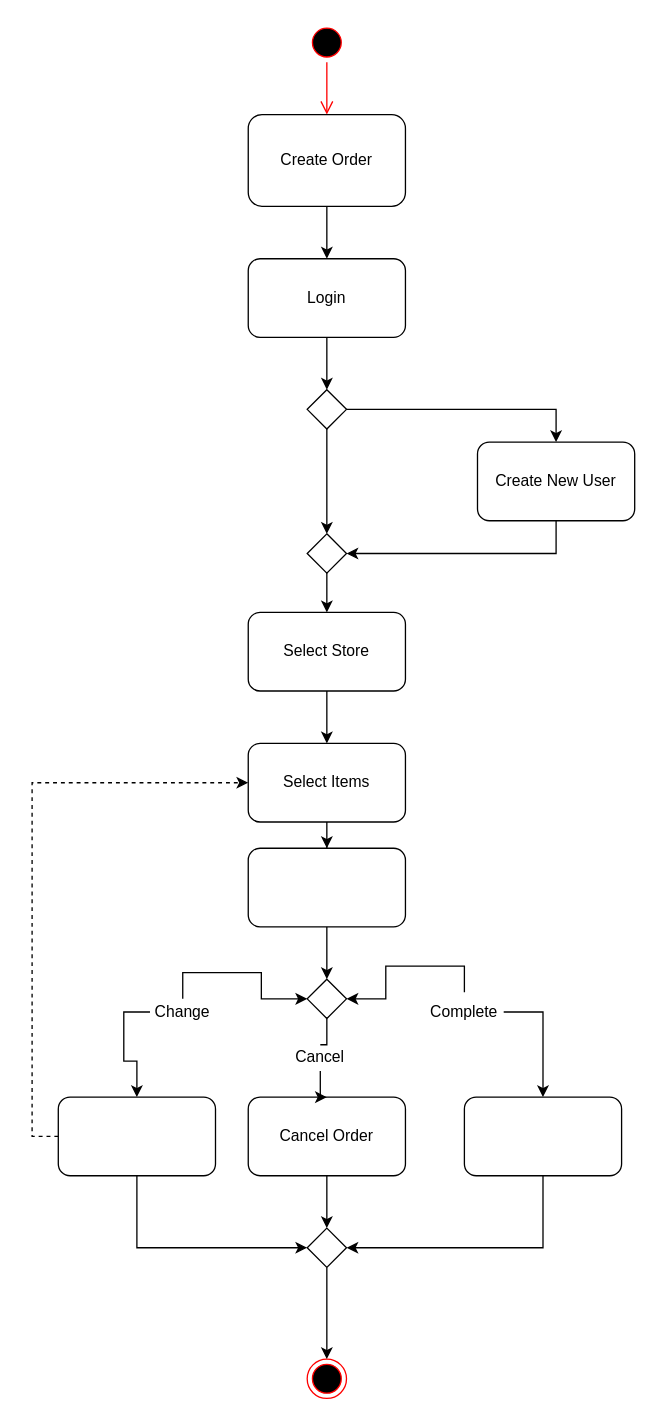
Some shapes in this 658 by 1421 pixel diagram are drawn without their labels. The box of each missing label's shape, as (x1, y1, x2, y2) in pixels:
Change Order: (57, 1096, 215, 1176)
Complete Order: (463, 1096, 622, 1176)
Select Delivery: (247, 847, 405, 927)
